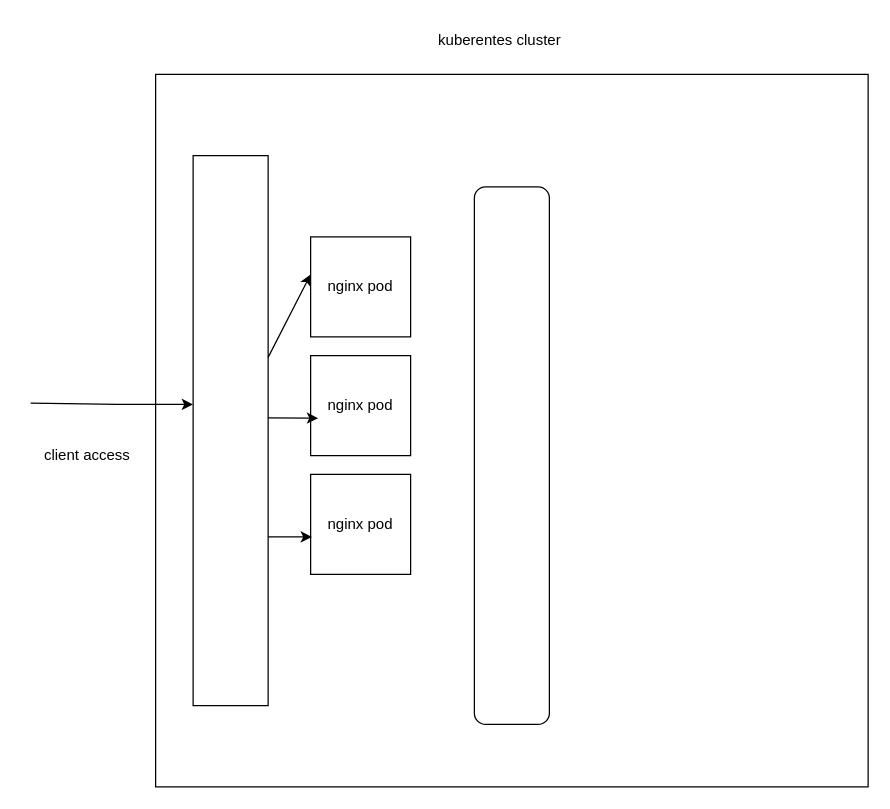
Image size: 890x809. Some labels were removed from this diagram. Here are the shapes that lost their labels. From the top down, the centre of each, then its label:
the point at 230,430: load balancer
the point at 511,455: flask service
